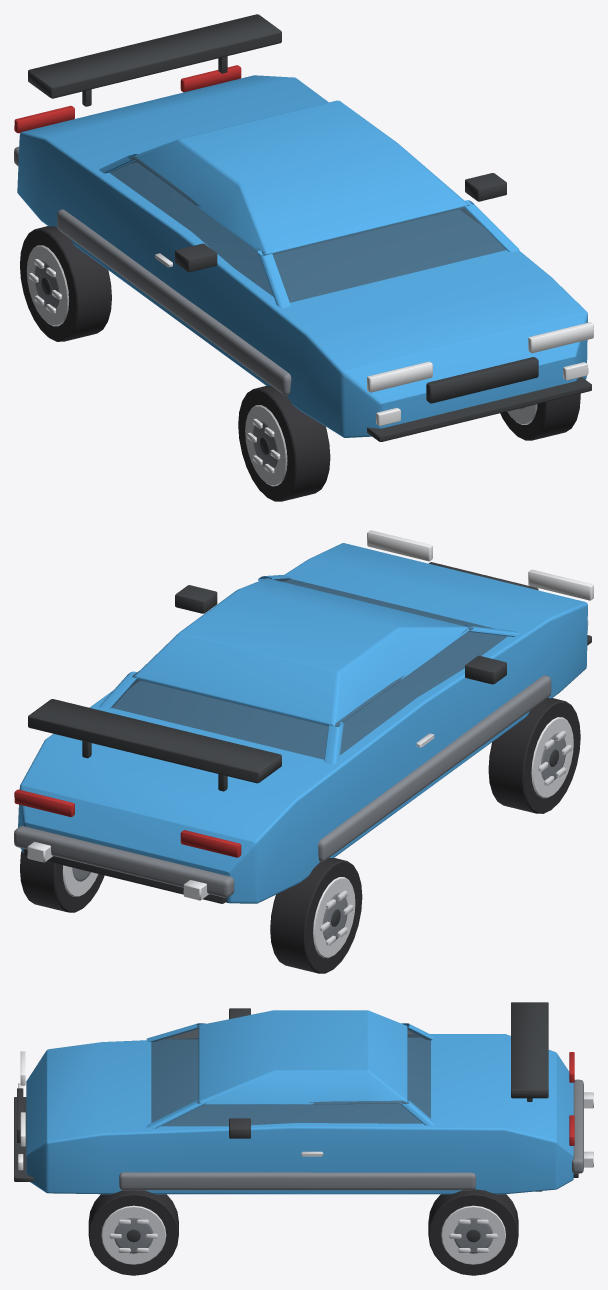
Rendered from azure-turbo.glb.
3 views of the same model, one above another, from view 1: azimuth 30°, elevation 25°; view 2: azimuth 150°, elevation 25°; view 3: azimuth 270°, elevation 25° (orthographic). The views are drawn at different scales.
Parts seen in each view (by area): view 1: paint, trim, glass, tyre, accent, rim, head, tail; view 2: paint, tyre, glass, trim, accent, rim, head, tail; view 3: paint, glass, accent, tyre, trim, rim, head, tail.
Boxes of the visible parts, box(x1,y1,x2,y2) form: paint: box(17, 75, 587, 437); trim: box(28, 14, 591, 454); glass: box(109, 156, 506, 302); tyre: box(20, 226, 580, 501); accent: box(14, 146, 524, 468); rim: box(26, 245, 537, 486); head: box(367, 322, 593, 426); tail: box(14, 65, 241, 133); paint: box(18, 543, 587, 903); tyre: box(20, 698, 580, 973); glass: box(111, 578, 507, 759); trim: box(24, 562, 591, 926); accent: box(14, 675, 565, 940); rim: box(27, 717, 573, 958); head: box(367, 530, 593, 629); tail: box(14, 789, 241, 857); paint: box(26, 1010, 573, 1194); glass: box(151, 1026, 430, 1126); accent: box(114, 1079, 583, 1253); tyre: box(88, 1189, 518, 1275); trim: box(14, 1002, 578, 1242); rim: box(101, 1092, 593, 1264); head: box(18, 1051, 25, 1170); tail: box(569, 1052, 574, 1145).
Bounding box in the file's own units: 2.35 × 1.64 × 4.74.
